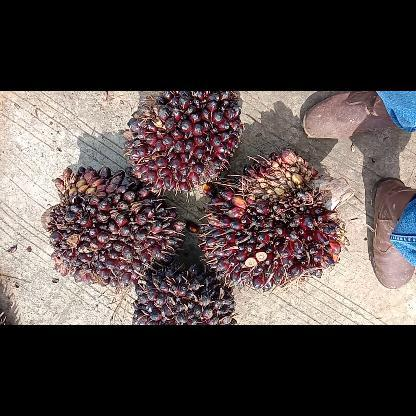TBS mentah: (196, 146, 352, 292), (38, 162, 188, 288), (119, 90, 246, 200), (129, 260, 240, 324)
